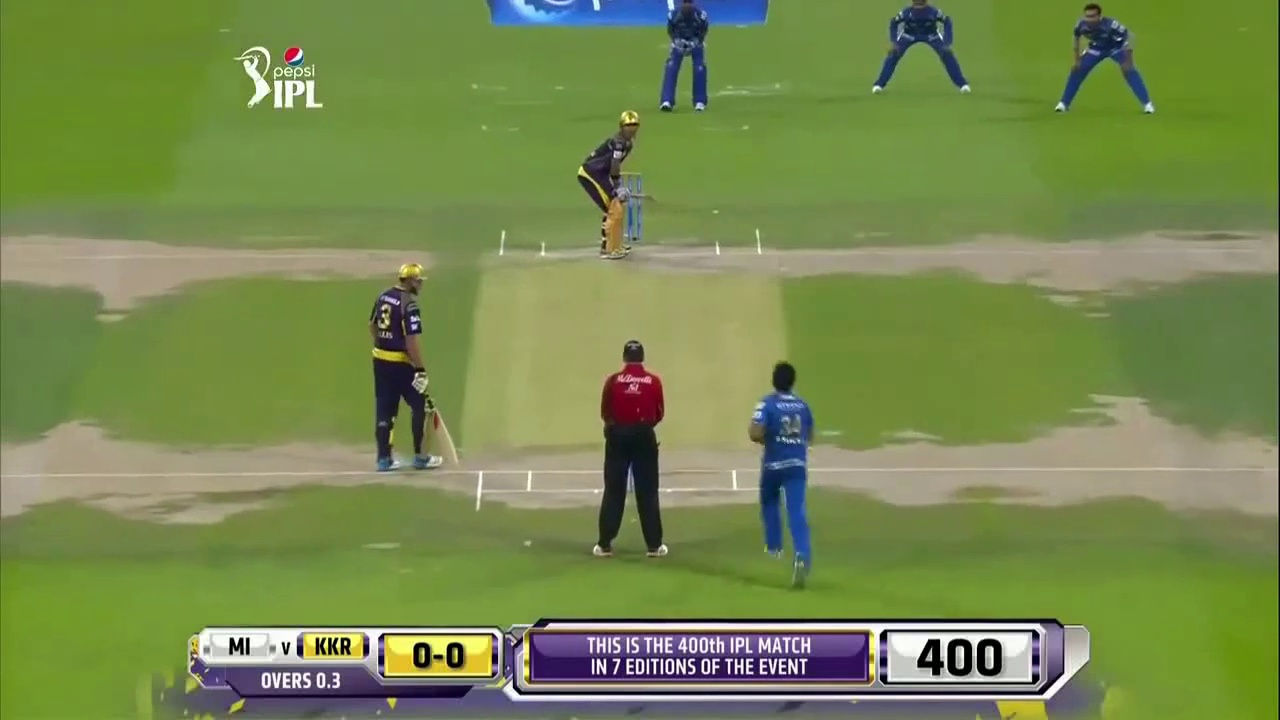bat: (428, 394, 459, 464)
